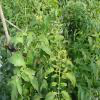Tomato leaf yellow virus: (6, 73, 22, 99), (26, 68, 40, 93), (10, 53, 27, 68), (38, 44, 54, 58), (6, 34, 25, 44), (38, 34, 51, 47), (65, 73, 76, 87), (43, 66, 54, 79), (44, 15, 51, 33), (61, 89, 72, 99), (14, 30, 29, 37), (45, 91, 57, 99), (67, 59, 74, 70), (55, 34, 65, 41), (60, 74, 69, 81), (50, 81, 58, 88), (51, 73, 58, 79), (60, 82, 68, 87), (57, 54, 62, 60)
